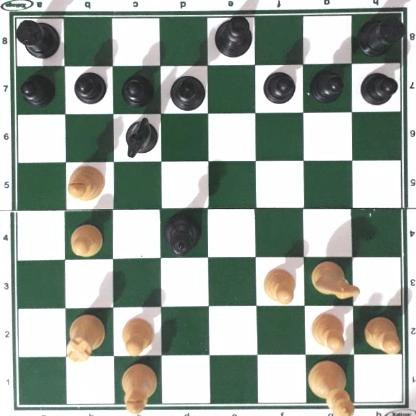black-bishop: (167, 73, 207, 111)
black-king: (213, 15, 254, 58)
black-knight: (122, 116, 159, 158)
black-pawn: (360, 69, 396, 105), (309, 68, 344, 102), (262, 68, 295, 103), (20, 72, 54, 104), (73, 70, 105, 104), (121, 72, 153, 106)
black-queen: (162, 211, 201, 256)
black-rook: (13, 15, 61, 58), (358, 14, 405, 55)
white-bishop: (121, 363, 157, 416), (66, 164, 105, 202)
white-king: (307, 359, 356, 416)
white-knight: (309, 260, 361, 301)
white-pawn: (310, 311, 348, 352), (363, 315, 401, 352), (120, 316, 154, 356), (67, 222, 104, 258), (262, 266, 295, 304)
white-rook: (64, 313, 105, 364)
